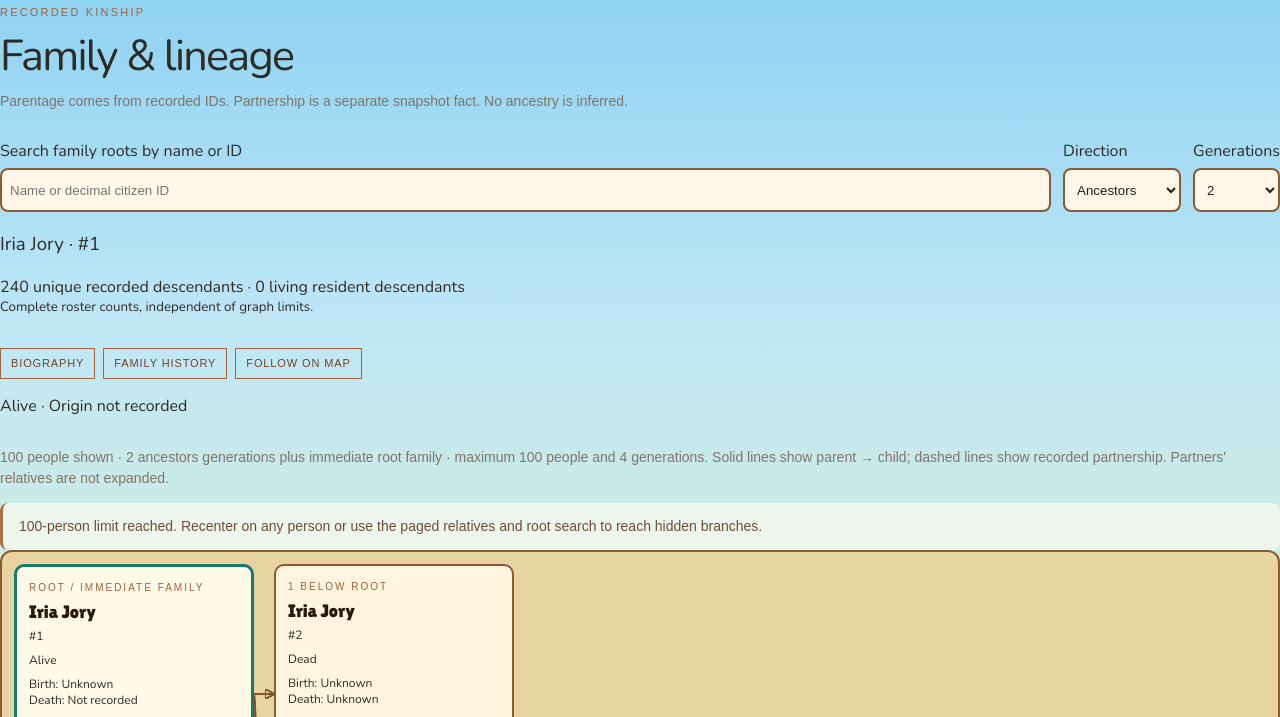
Test: family records navigation › bounds large archive DOM and reaches hidden child branches through paged links
Select "Descendants" in the dropdown labelled "Direction" at (1122, 190), box x1=1063 y1=168 x2=1181 y2=212
(page scrolled)
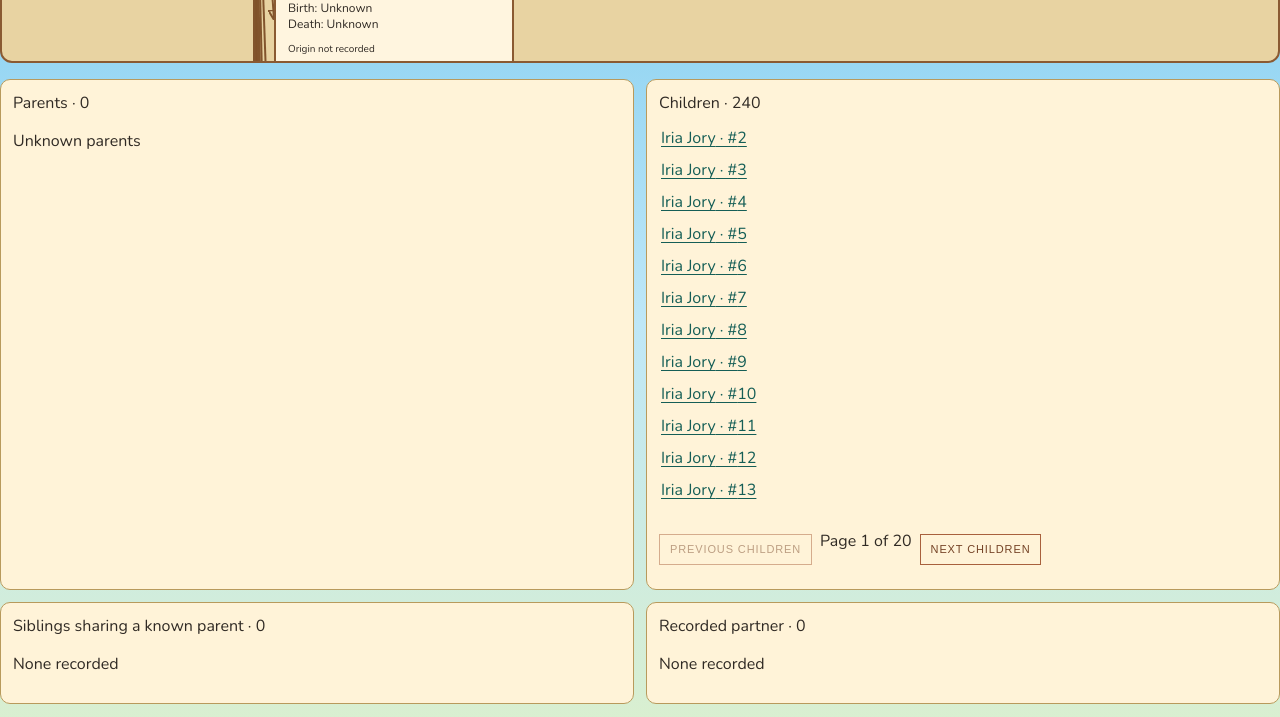
Click the button "Next children" at (981, 549), box x1=920 y1=534 x2=1042 y2=565
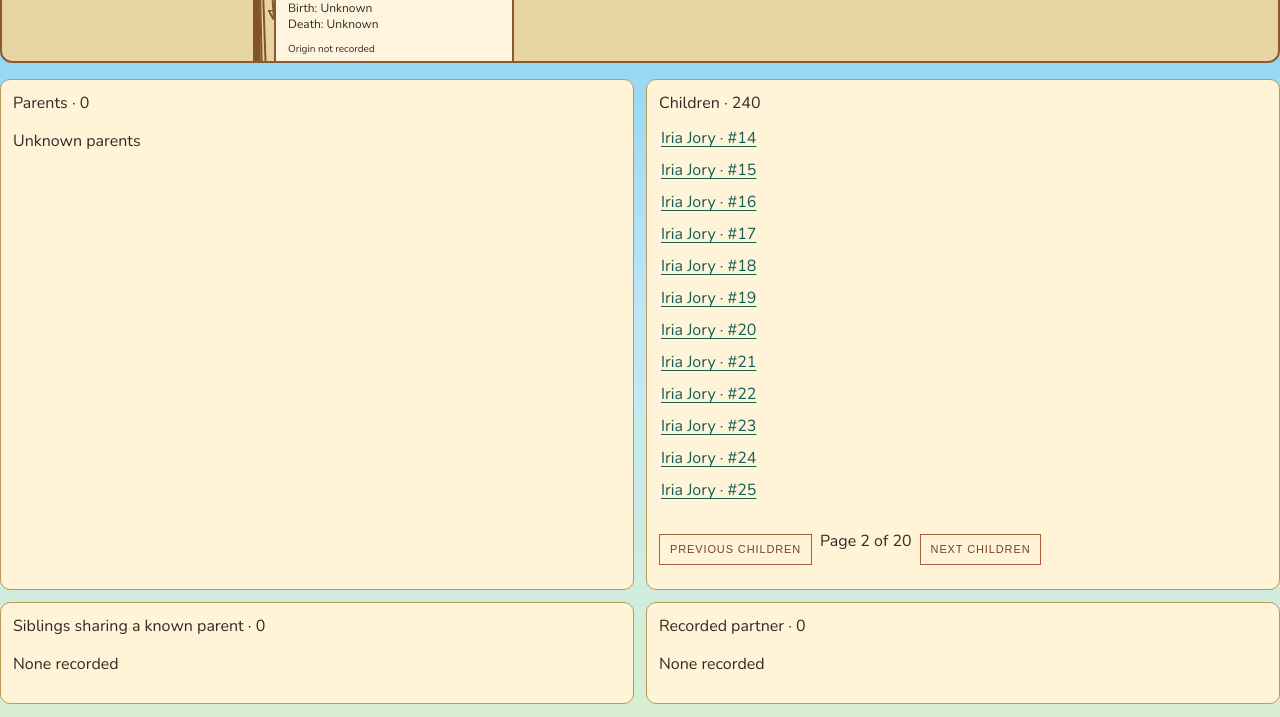
Result: the button "Iria Jory · #14" is shown at x1=659 y1=122 x2=758 y2=154
